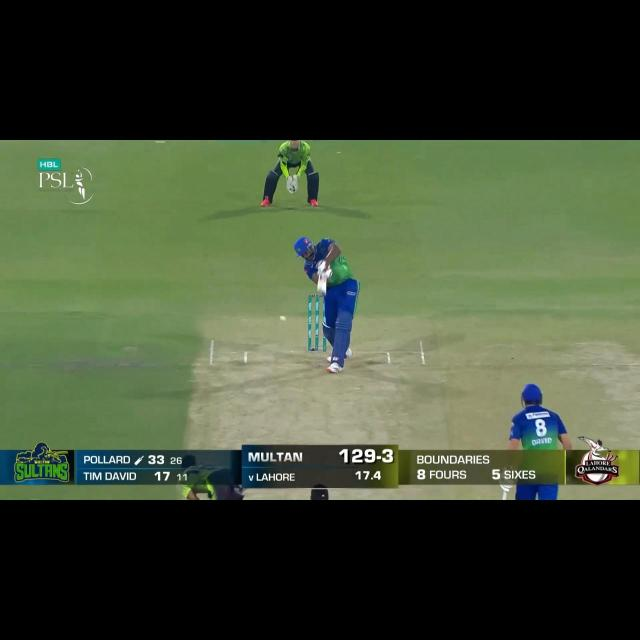bat: (315, 268, 330, 298)
toe: (315, 285, 327, 297)
